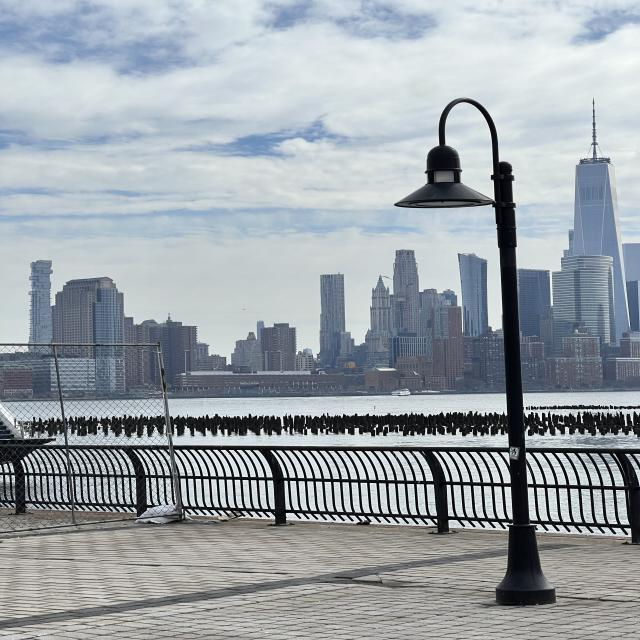WTC: (571, 101, 620, 256)
